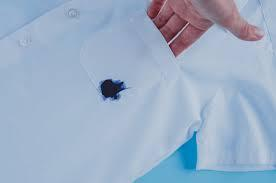ink: (100, 79, 125, 101)
